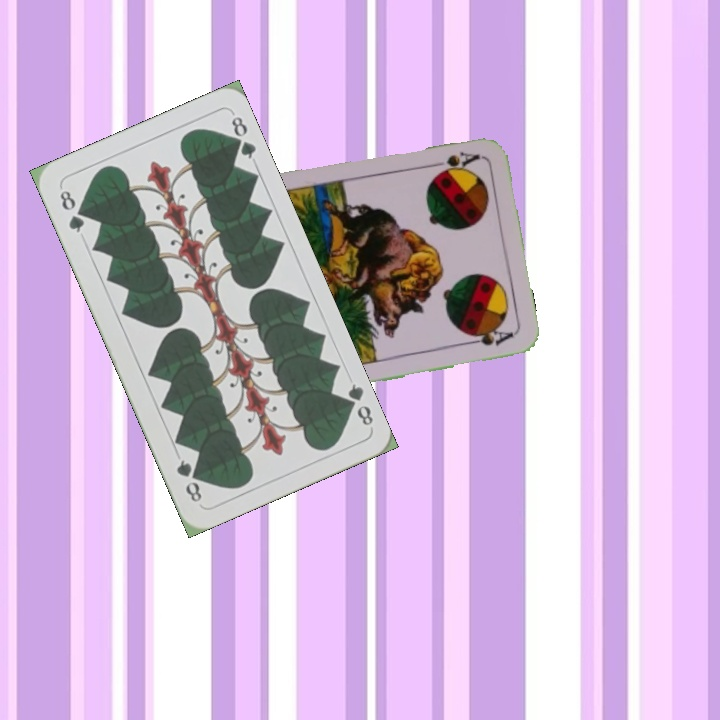G8: (338, 380, 376, 429), (55, 186, 87, 236)
SA: (423, 147, 482, 176)
